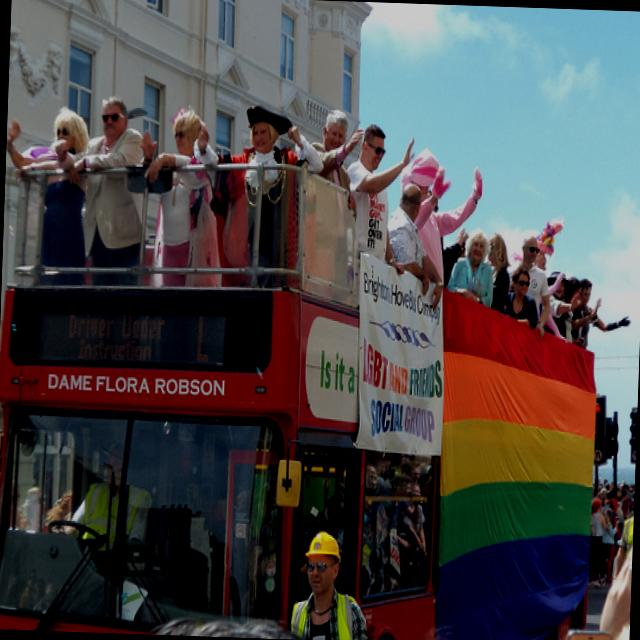Vehicle: (0, 148, 602, 640)
